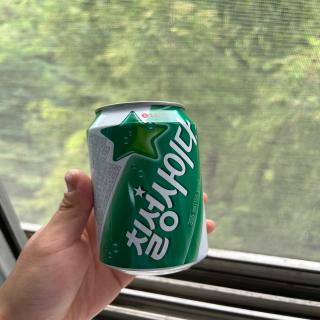chilsung: (83, 101, 210, 278)
